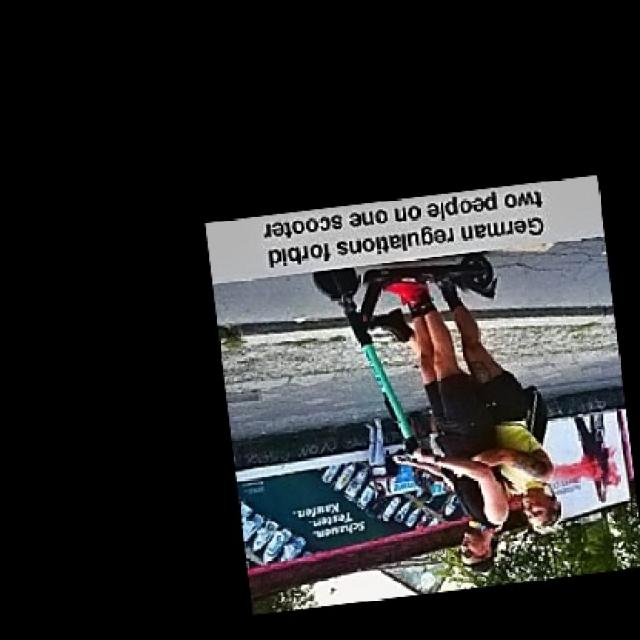bare_head: (438, 508, 491, 574), (517, 477, 561, 538)
human: (388, 276, 504, 572), (435, 279, 568, 534)
kickboard: (313, 252, 504, 323)
